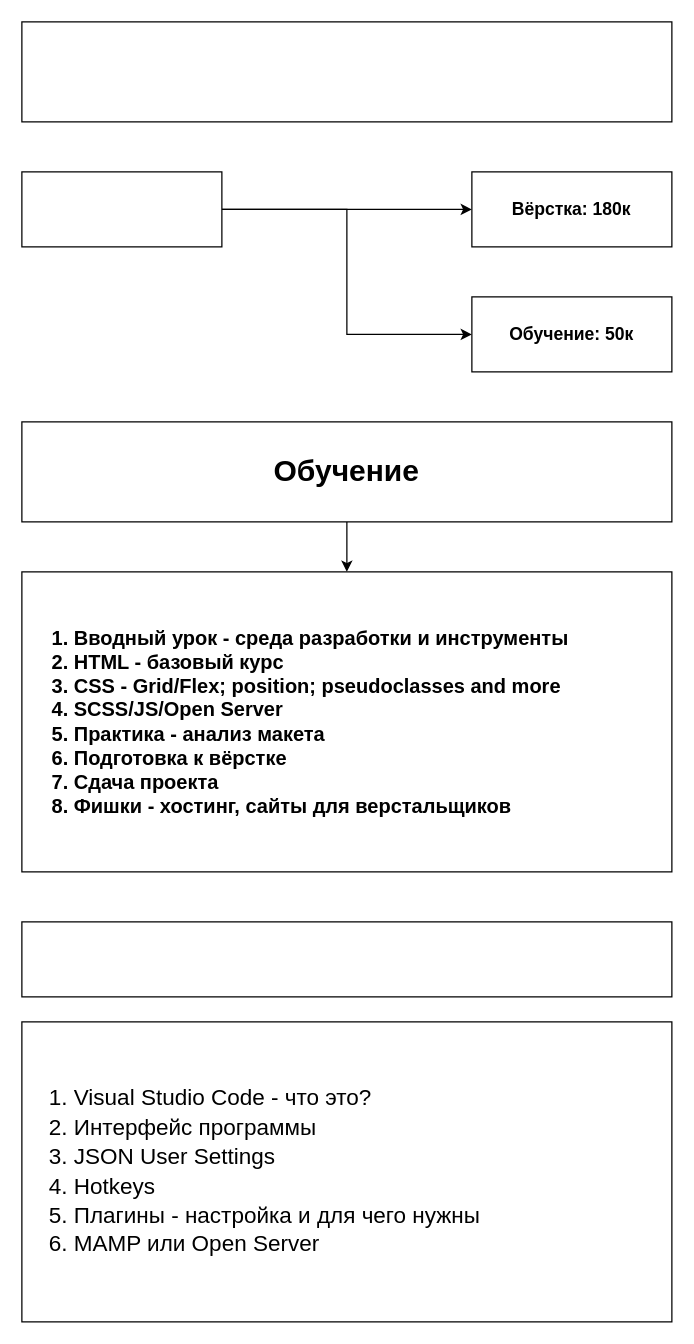
This 694x1344 diagram has some shape labels left out. Here are the shapes that lost their labels. From the top down, the centre of each, then its label:
At [346,71]: "Salient.studio".
At [121,209]: "Цена: 230к".
At [346,959]: "Вводный урок".
